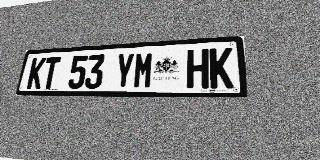3: (84, 54, 105, 89)
5: (67, 55, 88, 89)
H: (186, 49, 209, 88)
K: (210, 47, 234, 88), (26, 57, 46, 89)
M: (132, 52, 154, 89)
T: (41, 57, 61, 89)
Y: (113, 53, 135, 89)
